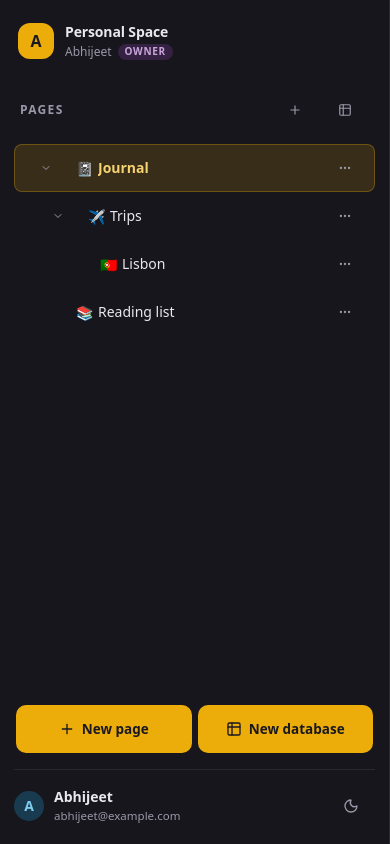
it: Sidebar database affordances (Phase 3) › shows "Add a database inside" in the overflow menu for plain page rows
The image size is (390, 844).
// Journal is a plain page — its overflow menu should have the database option
Click the button named "Actions for Journal" at (345, 168), box [321,144,369,192]
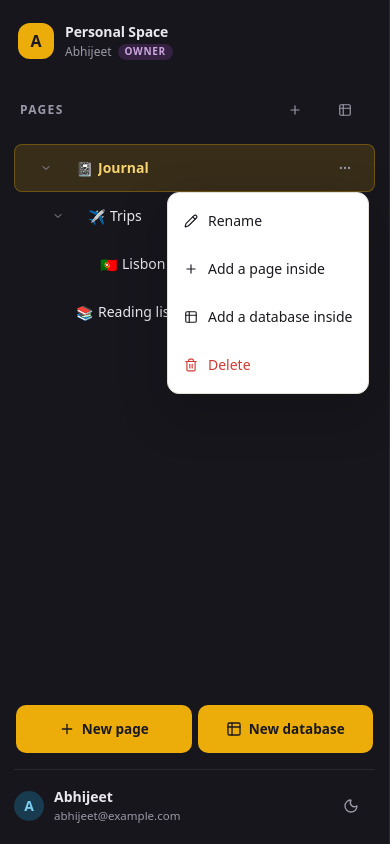
Check: the menu item with test id "page-add-database-child" is shown, box [184,307,352,326]
